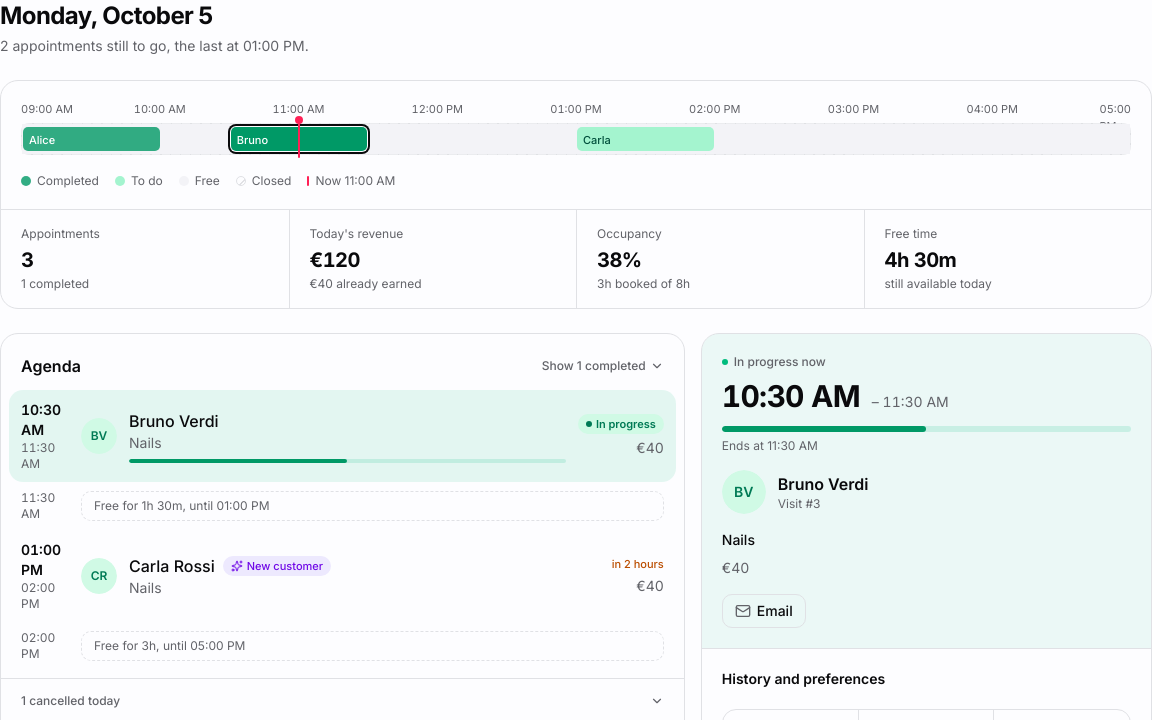
Test case: WidgetToday › selects an appointment from its block on the day ribbon
Click the button "Alice" at (91, 139), box [23,127,160,151]
(page scrolled)
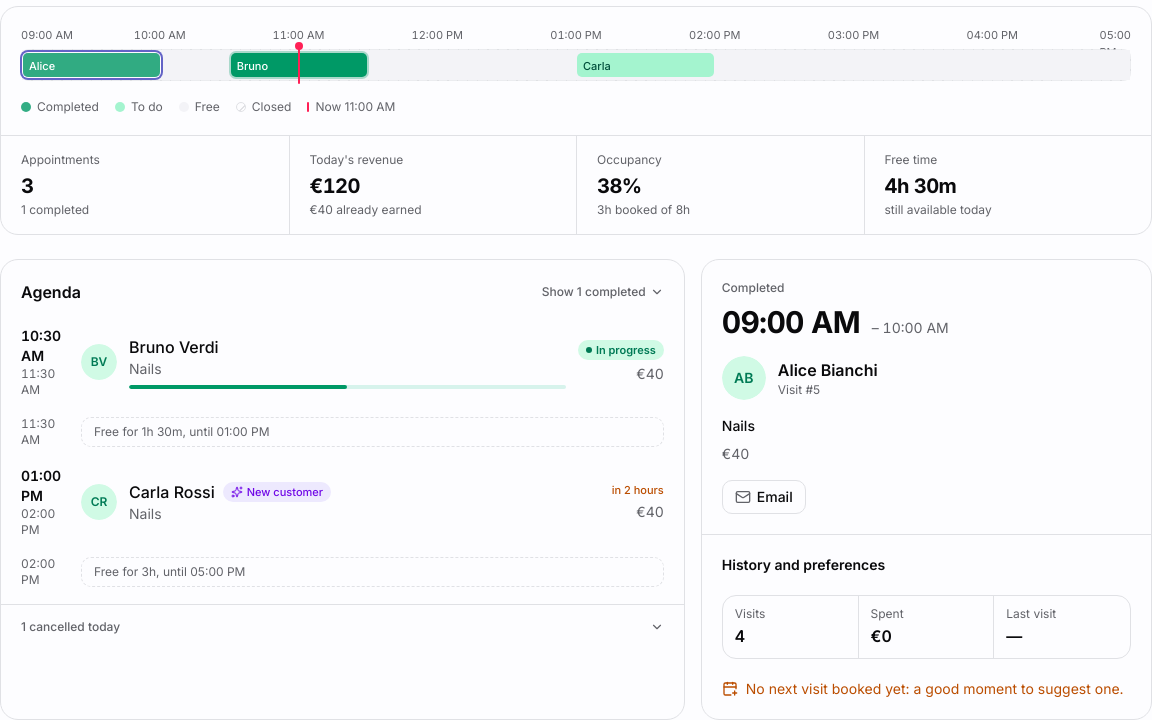
Now the element "Completed" shows "Alice Bianchi", box [778,360,878,380]
